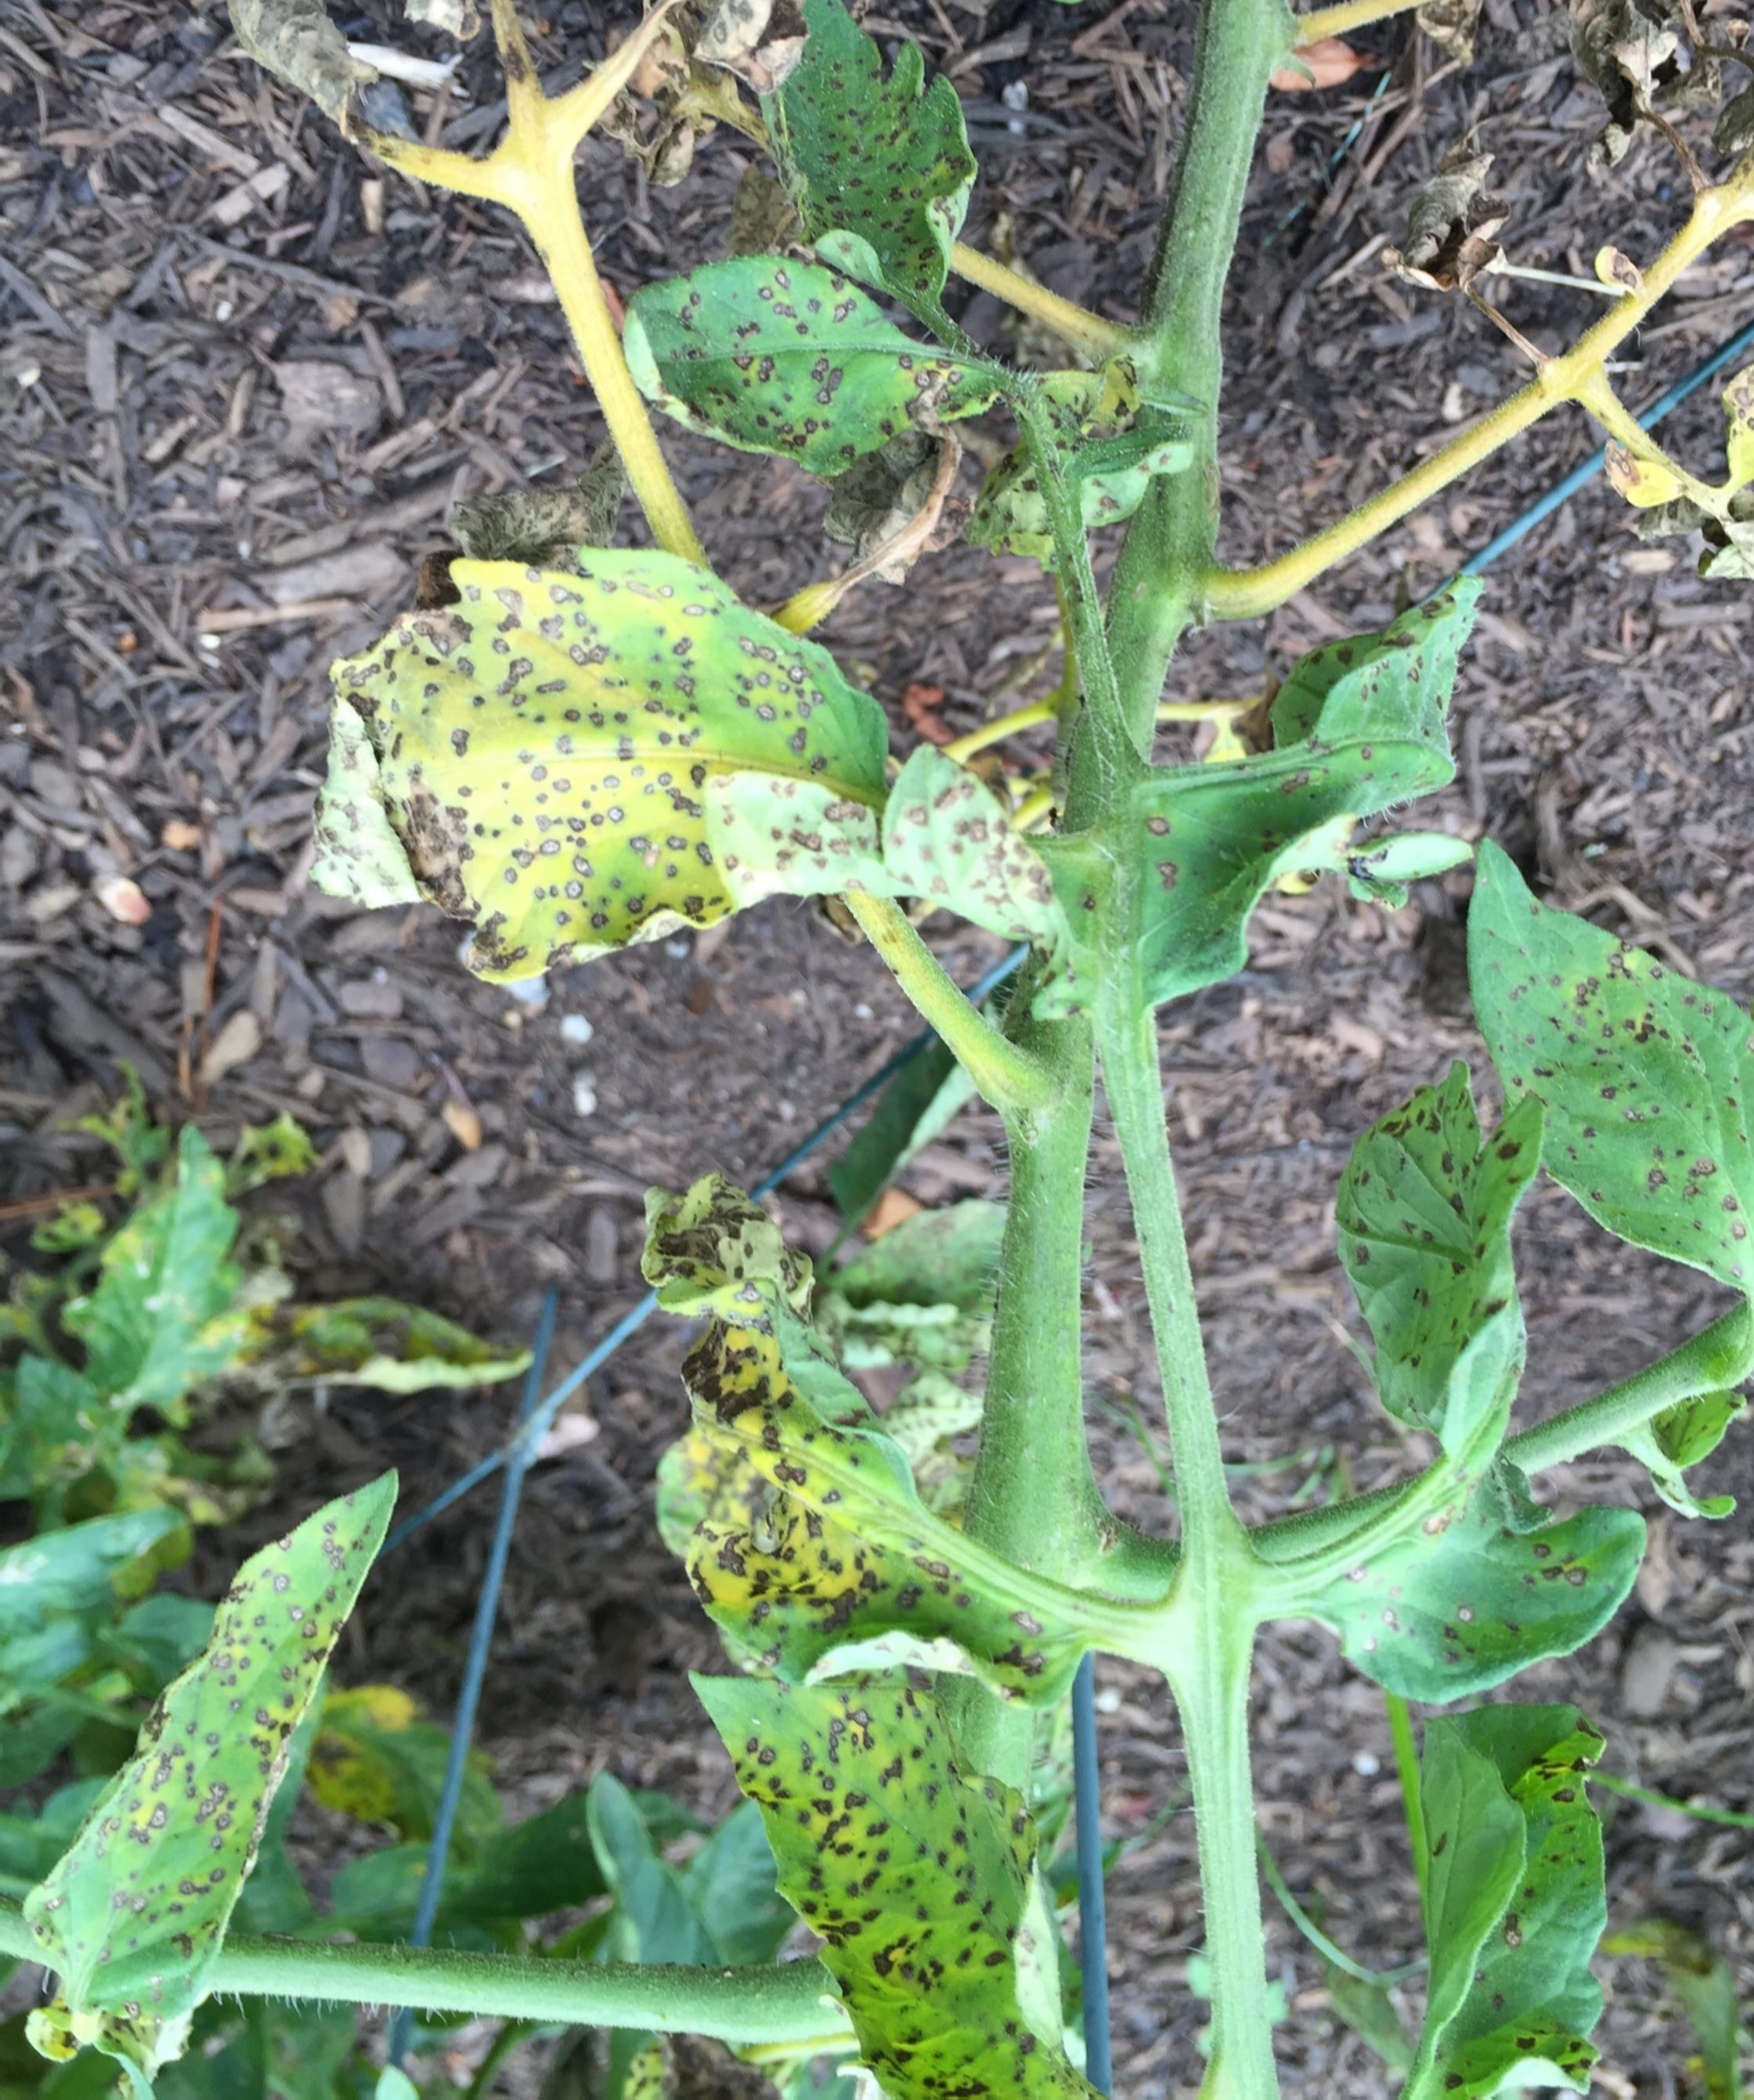Tomato Septoria leaf spot: (195, 521, 1141, 980), (625, 1165, 1111, 1691), (669, 1662, 1181, 2090), (22, 1475, 406, 2038), (1108, 560, 1476, 1026), (1430, 816, 1754, 1297), (551, 238, 998, 484), (1308, 1068, 1565, 1478), (745, 0, 1068, 311)
